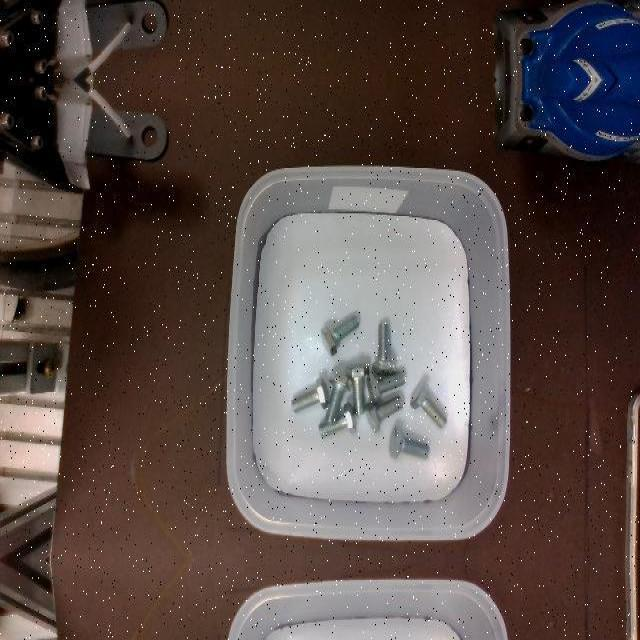screw: (410, 382, 446, 428), (320, 315, 358, 357), (324, 372, 352, 426), (365, 394, 404, 432), (386, 426, 428, 460), (365, 369, 405, 403), (291, 377, 328, 413), (371, 322, 395, 374), (346, 362, 369, 414)
